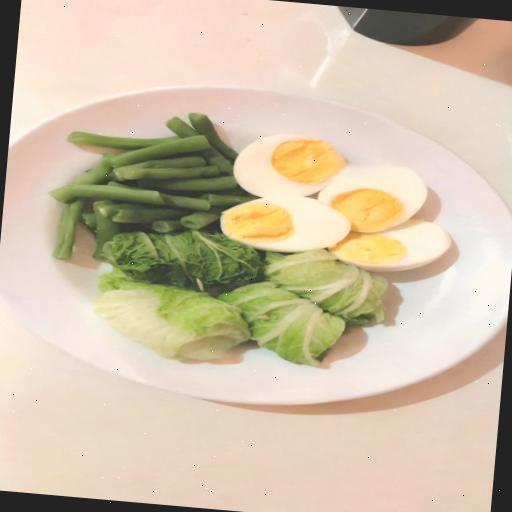buncis_rebus: (10, 86, 244, 244)
